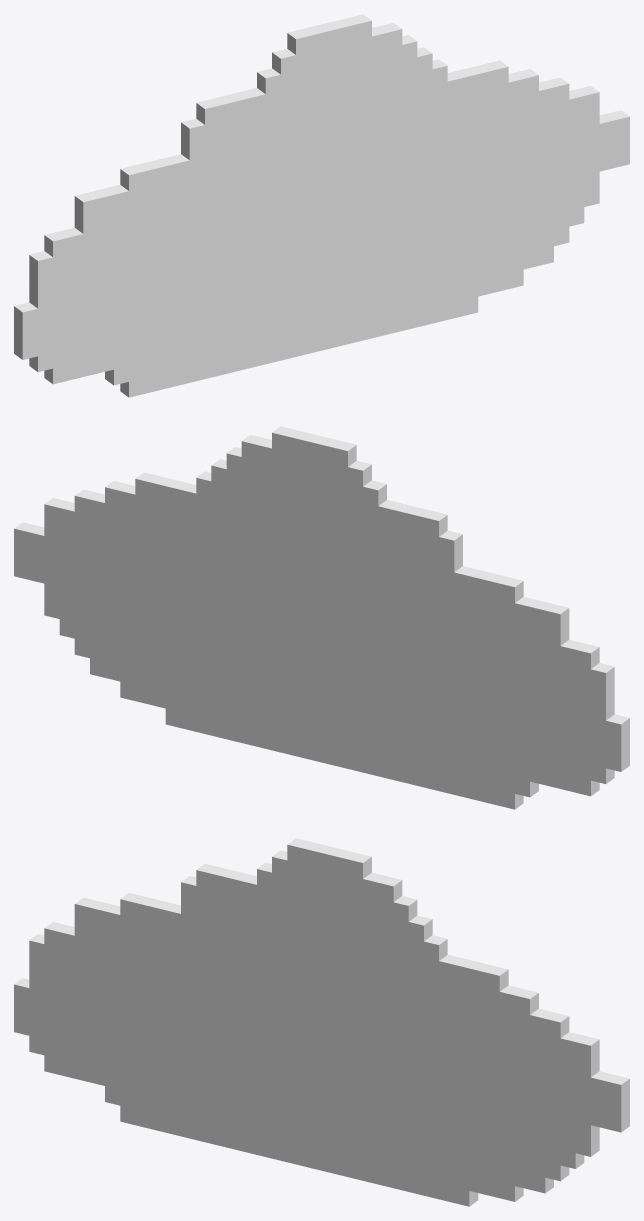
Rendered from cloud_2.obj.
The picture shows the model from 3 angles, top to bottom: view 1: azimuth 30°, elevation 25°; view 2: azimuth 150°, elevation 25°; view 3: azimuth 330°, elevation 25°; orthographic projection.
Visible parts, largest first — view 1: cloud_2; view 2: cloud_2; view 3: cloud_2.
Part boxes in pixels (bbox=[...]): cloud_2: bbox=[14, 14, 629, 397]; cloud_2: bbox=[14, 426, 629, 809]; cloud_2: bbox=[14, 838, 629, 1206].
Size of the model in its own units: 40 by 20 by 1.
1 material, 1 textured.
